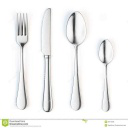Fork: (12, 7, 32, 113)
